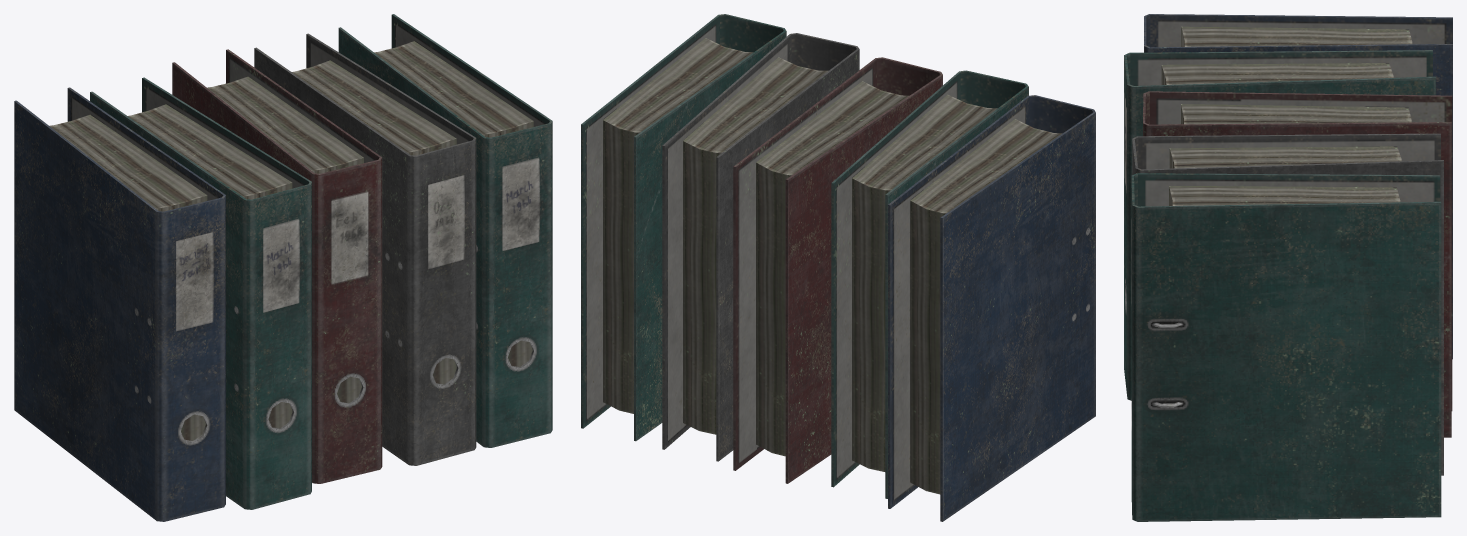
The model's file is FolderSet02.fbx.
The picture shows the model from 3 angles, left to right: view 1: azimuth 30°, elevation 25°; view 2: azimuth 150°, elevation 25°; view 3: azimuth 270°, elevation 25°; orthographic projection. The views are drawn at different scales.
Visible parts, largest first — view 1: FolderSet02; view 2: FolderSet02; view 3: FolderSet02.
Boxes of the visible parts, x1,y1,x2,y2 form: FolderSet02: (14, 14, 552, 521); FolderSet02: (581, 14, 1095, 521); FolderSet02: (1124, 14, 1452, 521).
Size of the model in its own units: 42.75 by 32 by 30.32.
